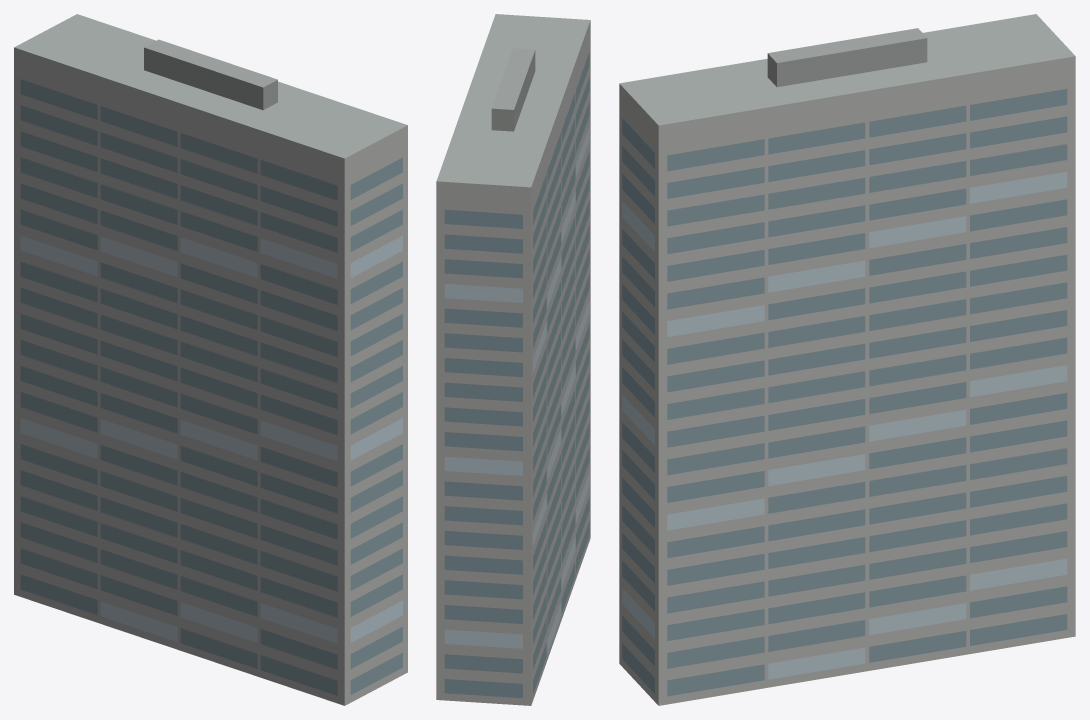
Rendered from fallback-songpa-helio-city-211.glb.
3 renders of one model, left to right at view 1: azimuth 30°, elevation 25°; view 2: azimuth 150°, elevation 25°; view 3: azimuth 270°, elevation 25°, orthographic. The views are drawn at different scales.
Visible parts, largest first — view 1: fallback-songpa-helio-city-211; view 2: fallback-songpa-helio-city-211; view 3: fallback-songpa-helio-city-211.
Part boxes in pixels (<box>): fallback-songpa-helio-city-211: <box>14,14,407,705</box>; fallback-songpa-helio-city-211: <box>436,14,590,705</box>; fallback-songpa-helio-city-211: <box>619,14,1075,705</box>.
Size of the model in its own units: 23.76 by 60 by 41.04.
